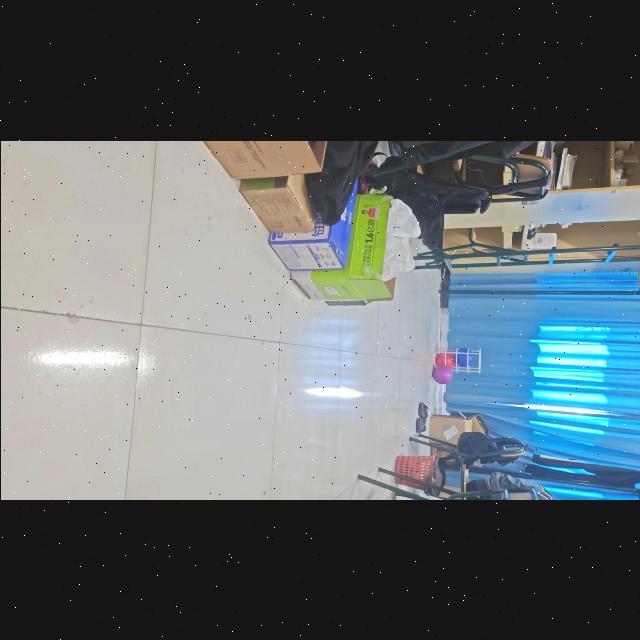B: (456, 347, 474, 366)
P: (431, 364, 451, 383)
R: (435, 352, 454, 368)
S: (434, 347, 481, 373)
